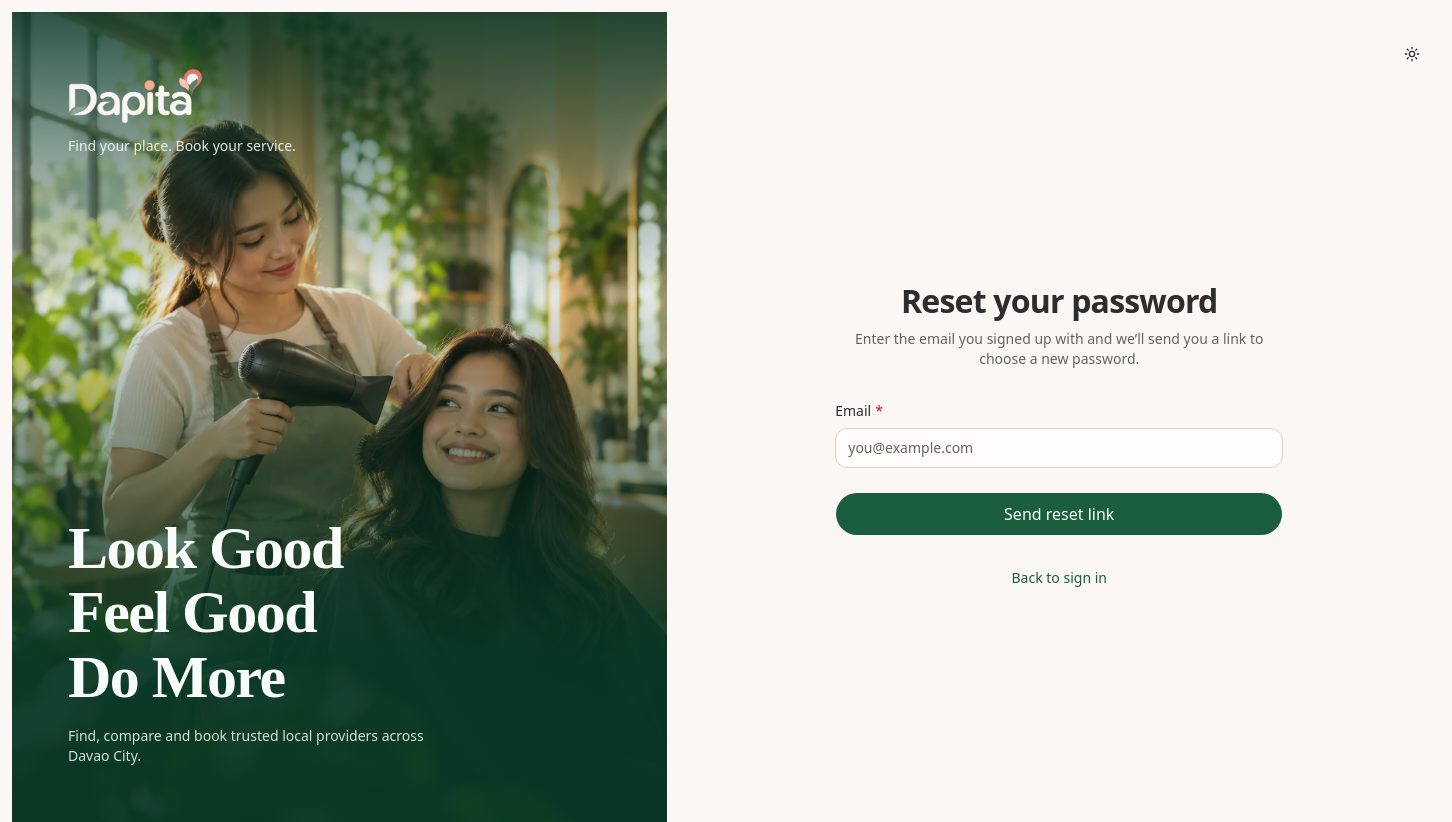
password recovery › gives the same answer for any email
Type "nobody@example.com" into the field labelled "Email *" at (1059, 448), box [835,428,1283,468]
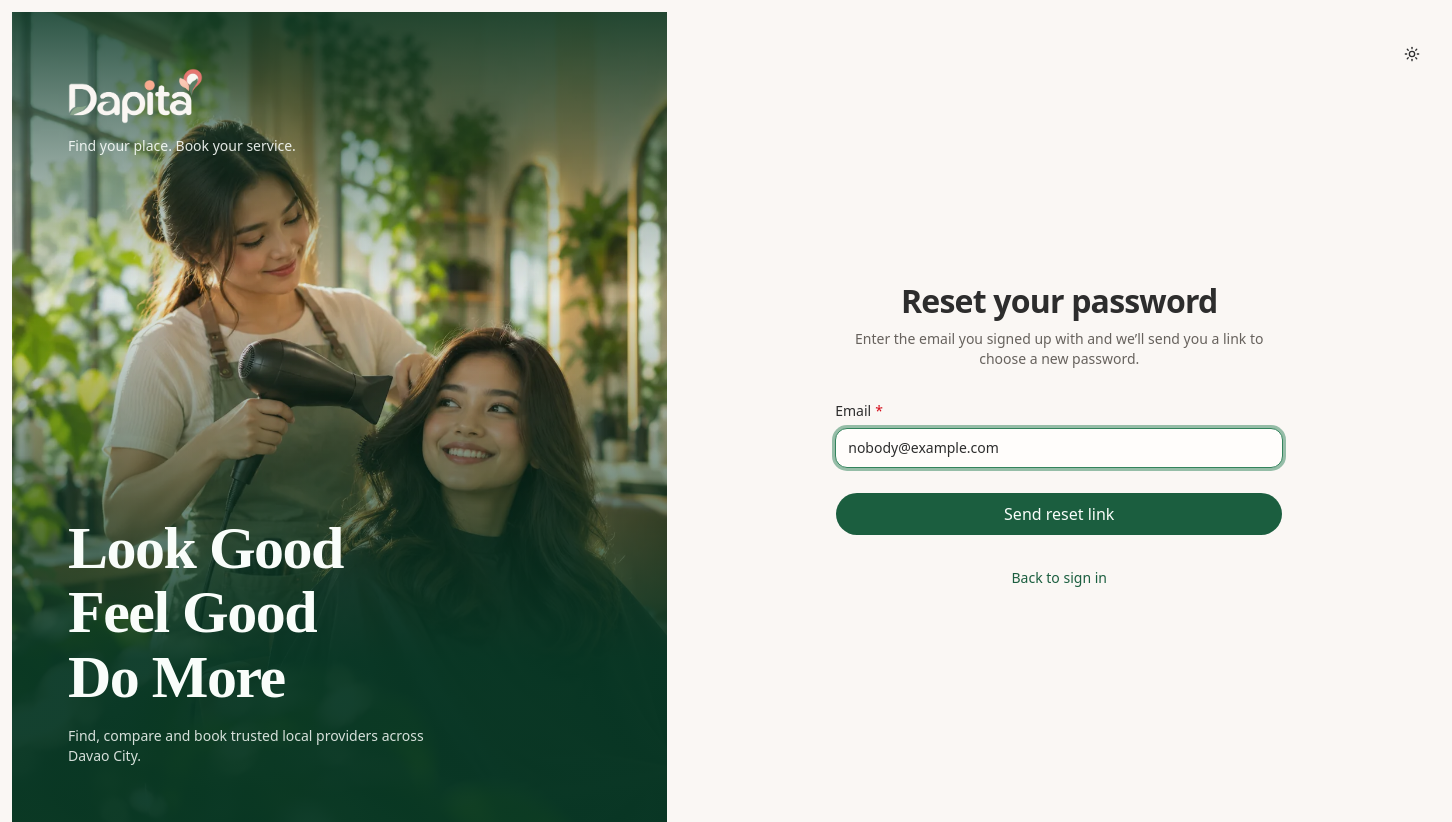
Click the button "Send reset link" at (1059, 514), box [835,492,1283,536]
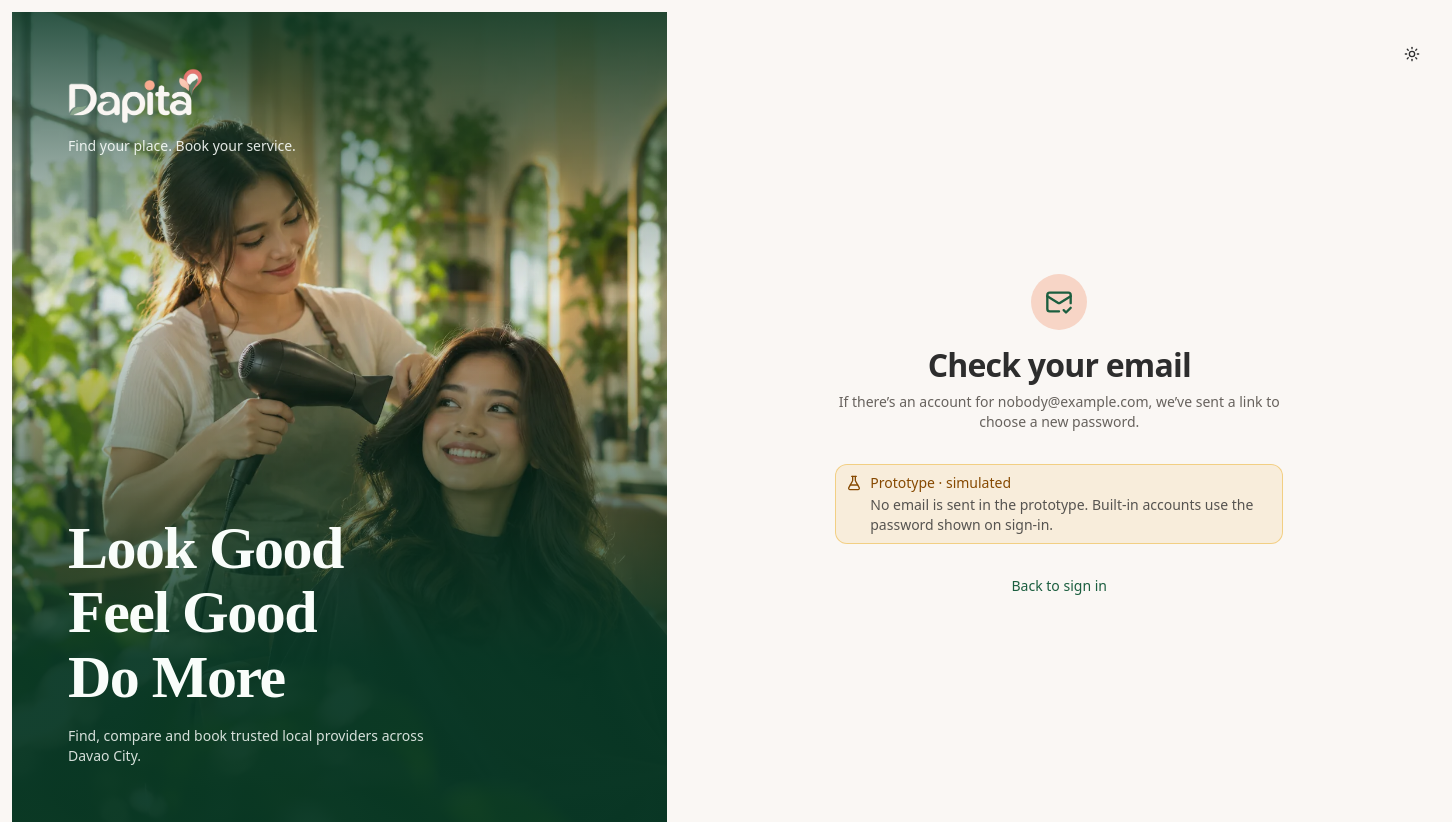
Expected: the heading "Check your email" is shown, [928,343,1191,386]
Expected: the text "If there’s an account for nobody@example.com" is shown, [839,392,1280,431]
